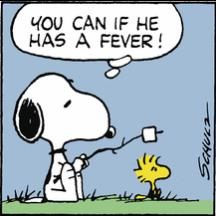snoopy: (12, 70, 118, 204)
